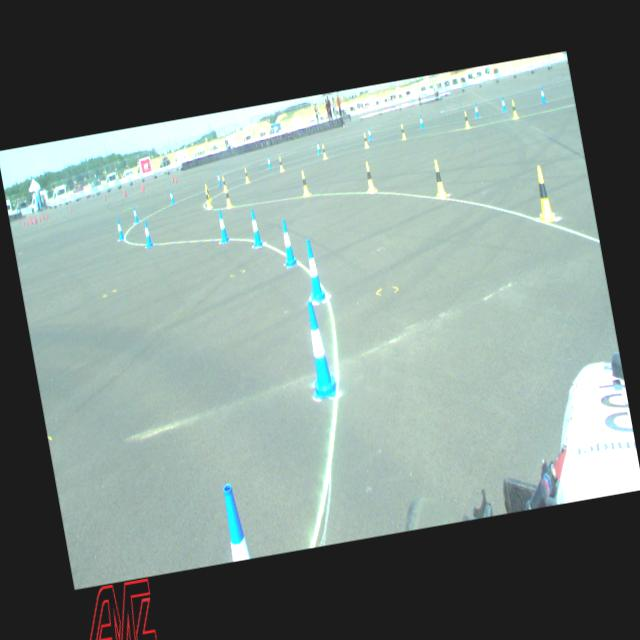blue_cone: (297, 300, 339, 400), (220, 482, 250, 562), (301, 237, 325, 302), (277, 216, 297, 268), (248, 208, 262, 247), (215, 208, 229, 242), (142, 218, 153, 248), (115, 218, 124, 240), (538, 86, 546, 102), (132, 205, 139, 223), (500, 95, 506, 112), (168, 188, 174, 204), (473, 102, 479, 117), (418, 115, 424, 128), (216, 172, 222, 185), (266, 156, 272, 168), (367, 126, 372, 140), (316, 140, 320, 154)
unknown_cone: (44, 212, 48, 219), (34, 216, 37, 224), (30, 217, 33, 224), (69, 205, 72, 212), (123, 189, 126, 196), (170, 175, 173, 182), (174, 175, 177, 182), (38, 214, 40, 222), (42, 212, 44, 220), (140, 184, 142, 192), (28, 215, 31, 220), (22, 220, 24, 227), (26, 219, 28, 226), (29, 215, 31, 222), (124, 188, 126, 195), (142, 185, 144, 192), (142, 182, 144, 189), (18, 218, 20, 224), (32, 214, 34, 220), (104, 193, 105, 200)
yellow_cone: (531, 164, 555, 222), (431, 158, 446, 198), (363, 160, 375, 192), (299, 170, 310, 197), (222, 185, 232, 207), (204, 188, 212, 208), (510, 99, 518, 118), (242, 166, 250, 182), (463, 110, 470, 128), (221, 175, 228, 192), (362, 132, 369, 148), (204, 183, 210, 201), (400, 122, 406, 138), (278, 156, 284, 171), (321, 144, 326, 158)
